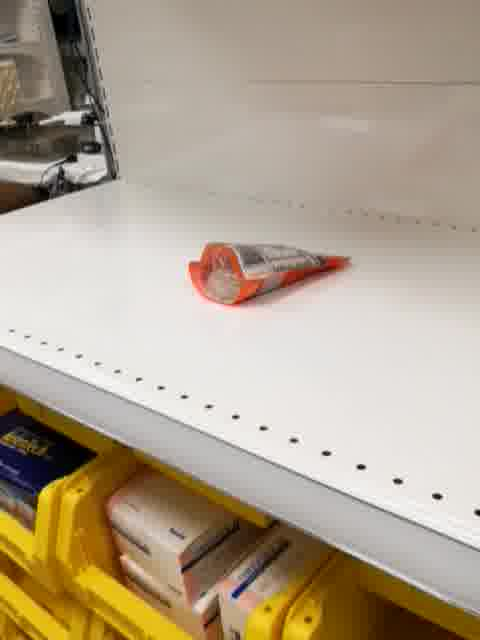whitechia: (188, 242, 351, 306)
